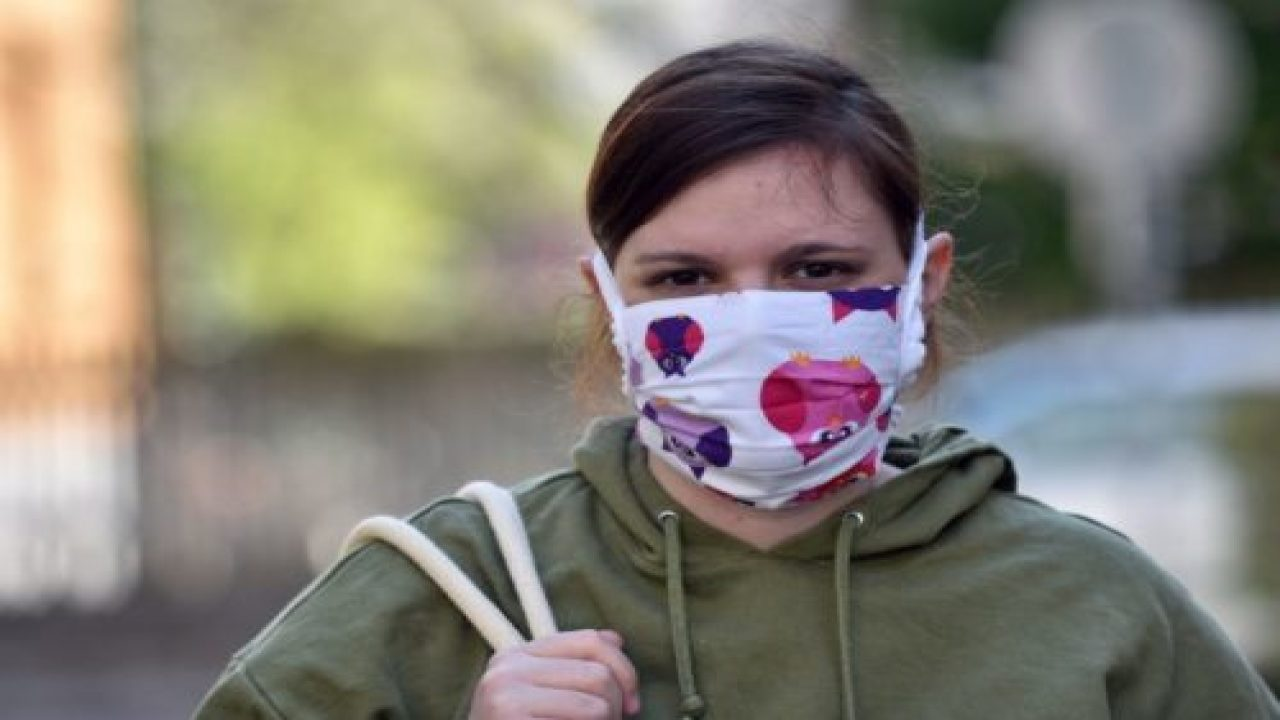with_mask: (591, 150, 961, 517)
